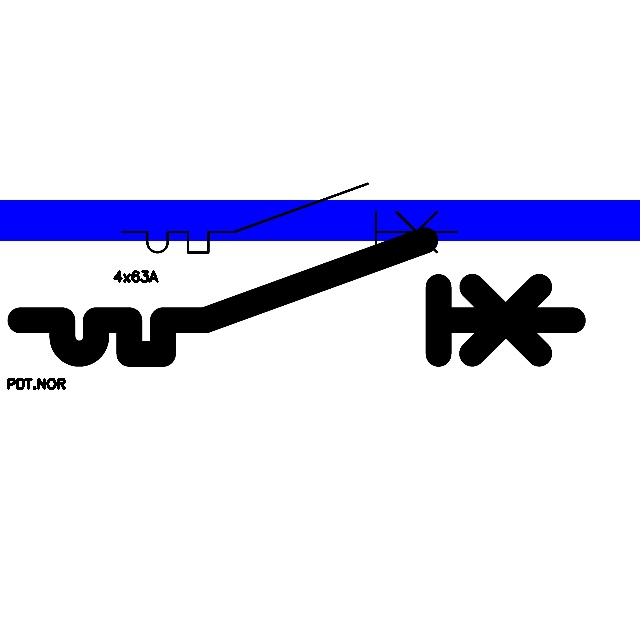interruptor_termomagnetico: (6, 226, 587, 368), (113, 175, 466, 261)
